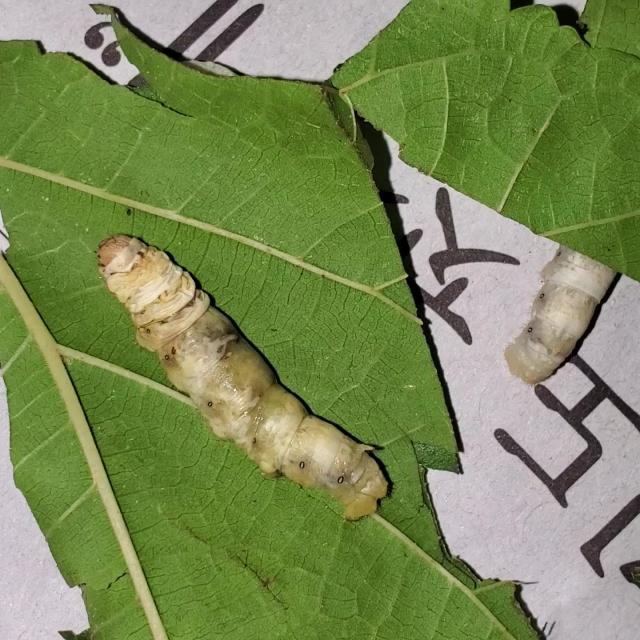Grasserie: (80, 215, 396, 529)
